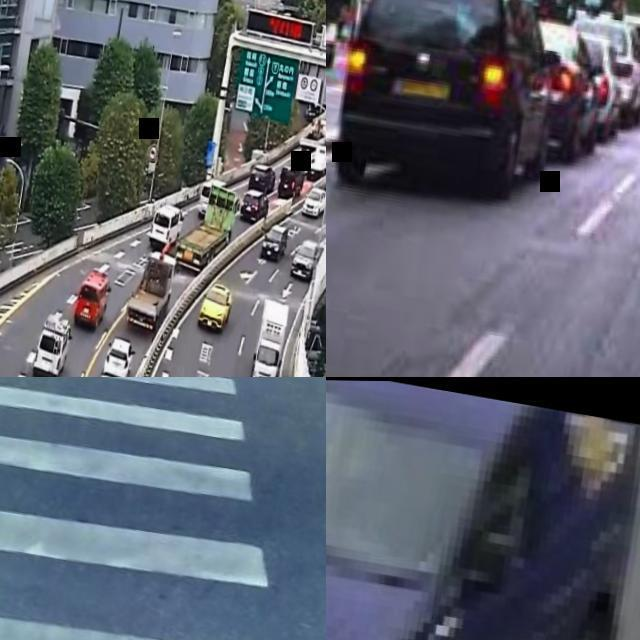car: (328, 0, 536, 199)
